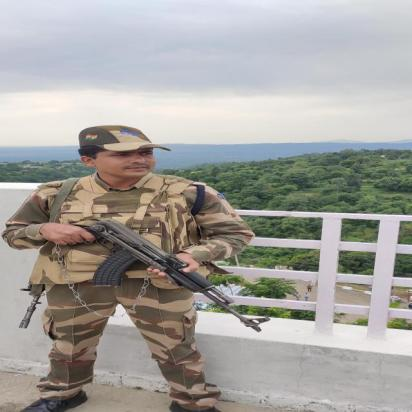Gun: (54, 219, 272, 333), (15, 282, 46, 330)
